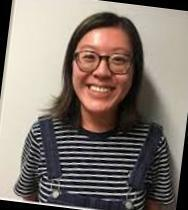Drunk: (76, 32, 132, 111)
